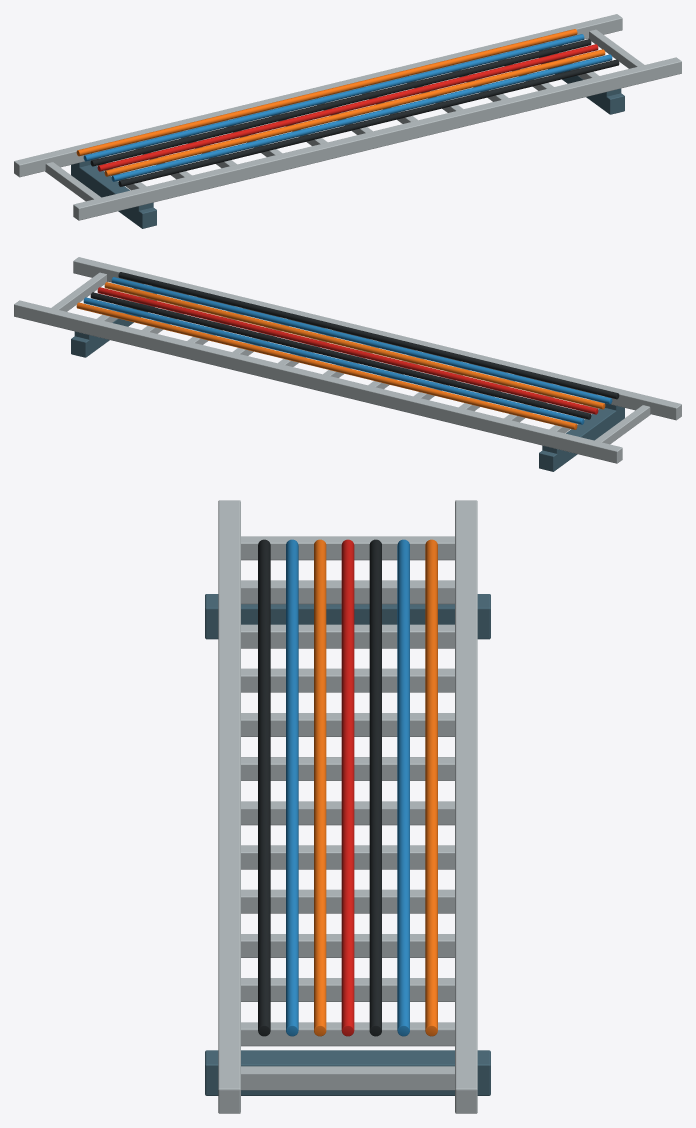
File: cable_dancer.glb
3 renders of one model, top to bottom at view 1: azimuth 30°, elevation 25°; view 2: azimuth 150°, elevation 25°; view 3: azimuth 270°, elevation 25°, orthographic. The views are drawn at different scales.
Parts seen in each view (by area): view 1: TRAY_rail_-0.34, TRAY_rail_0.34, CABLE_0, CABLE_4, CABLE_1, CABLE_2, CABLE_5, CABLE_3, CABLE_6, TRAY_support_crossbar_-1.55, TRAY_rung_0, TRAY_rung_12 (+1 smaller); view 2: TRAY_rail_0.34, TRAY_rail_-0.34, CABLE_2, CABLE_6, CABLE_1, CABLE_4, CABLE_5, CABLE_0, CABLE_3, TRAY_support_crossbar_-1.55, TRAY_rung_0, TRAY_rung_12 (+1 smaller); view 3: TRAY_rail_0.34, TRAY_rail_-0.34, CABLE_3, CABLE_1, CABLE_5, CABLE_2, CABLE_4, CABLE_0, CABLE_6, TRAY_support_crossbar_1.55, TRAY_rung_12, TRAY_rung_11 (+12 smaller).
Part boxes in pixels (x1,y1,x2,y2): TRAY_rail_-0.34: [73, 57, 681, 220]; TRAY_rail_0.34: [14, 14, 622, 177]; CABLE_0: [118, 59, 619, 186]; CABLE_4: [90, 39, 591, 166]; CABLE_1: [111, 54, 612, 181]; CABLE_2: [104, 49, 605, 176]; CABLE_5: [83, 34, 584, 161]; CABLE_3: [97, 44, 598, 171]; CABLE_6: [76, 29, 577, 156]; TRAY_support_crossbar_-1.55: [71, 164, 156, 228]; TRAY_rung_0: [45, 162, 101, 201]; TRAY_rung_12: [588, 29, 644, 68]; TRAY_rail_0.34: [14, 300, 622, 463]; TRAY_rail_-0.34: [73, 257, 681, 420]; CABLE_2: [104, 282, 605, 409]; CABLE_6: [76, 302, 577, 429]; CABLE_1: [111, 277, 612, 404]; CABLE_4: [90, 292, 591, 419]; CABLE_5: [83, 297, 584, 424]; CABLE_0: [118, 272, 619, 399]; CABLE_3: [97, 287, 598, 414]; TRAY_support_crossbar_-1.55: [539, 407, 624, 471]; TRAY_rung_0: [594, 405, 650, 444]; TRAY_rung_12: [51, 272, 107, 311]; TRAY_rail_0.34: [455, 500, 477, 1113]; TRAY_rail_-0.34: [218, 500, 240, 1113]; CABLE_3: [341, 539, 354, 1036]; CABLE_1: [286, 539, 298, 1036]; CABLE_5: [397, 539, 409, 1036]; CABLE_2: [314, 539, 326, 1036]; CABLE_4: [369, 539, 381, 1036]; CABLE_0: [258, 539, 270, 1036]; CABLE_6: [425, 539, 437, 1036]; TRAY_support_crossbar_1.55: [205, 1050, 490, 1095]; TRAY_rung_12: [241, 1066, 454, 1090]; TRAY_rung_11: [241, 1022, 454, 1046].
Bounding box in the file's own units: 4 × 0.248 × 0.82.
